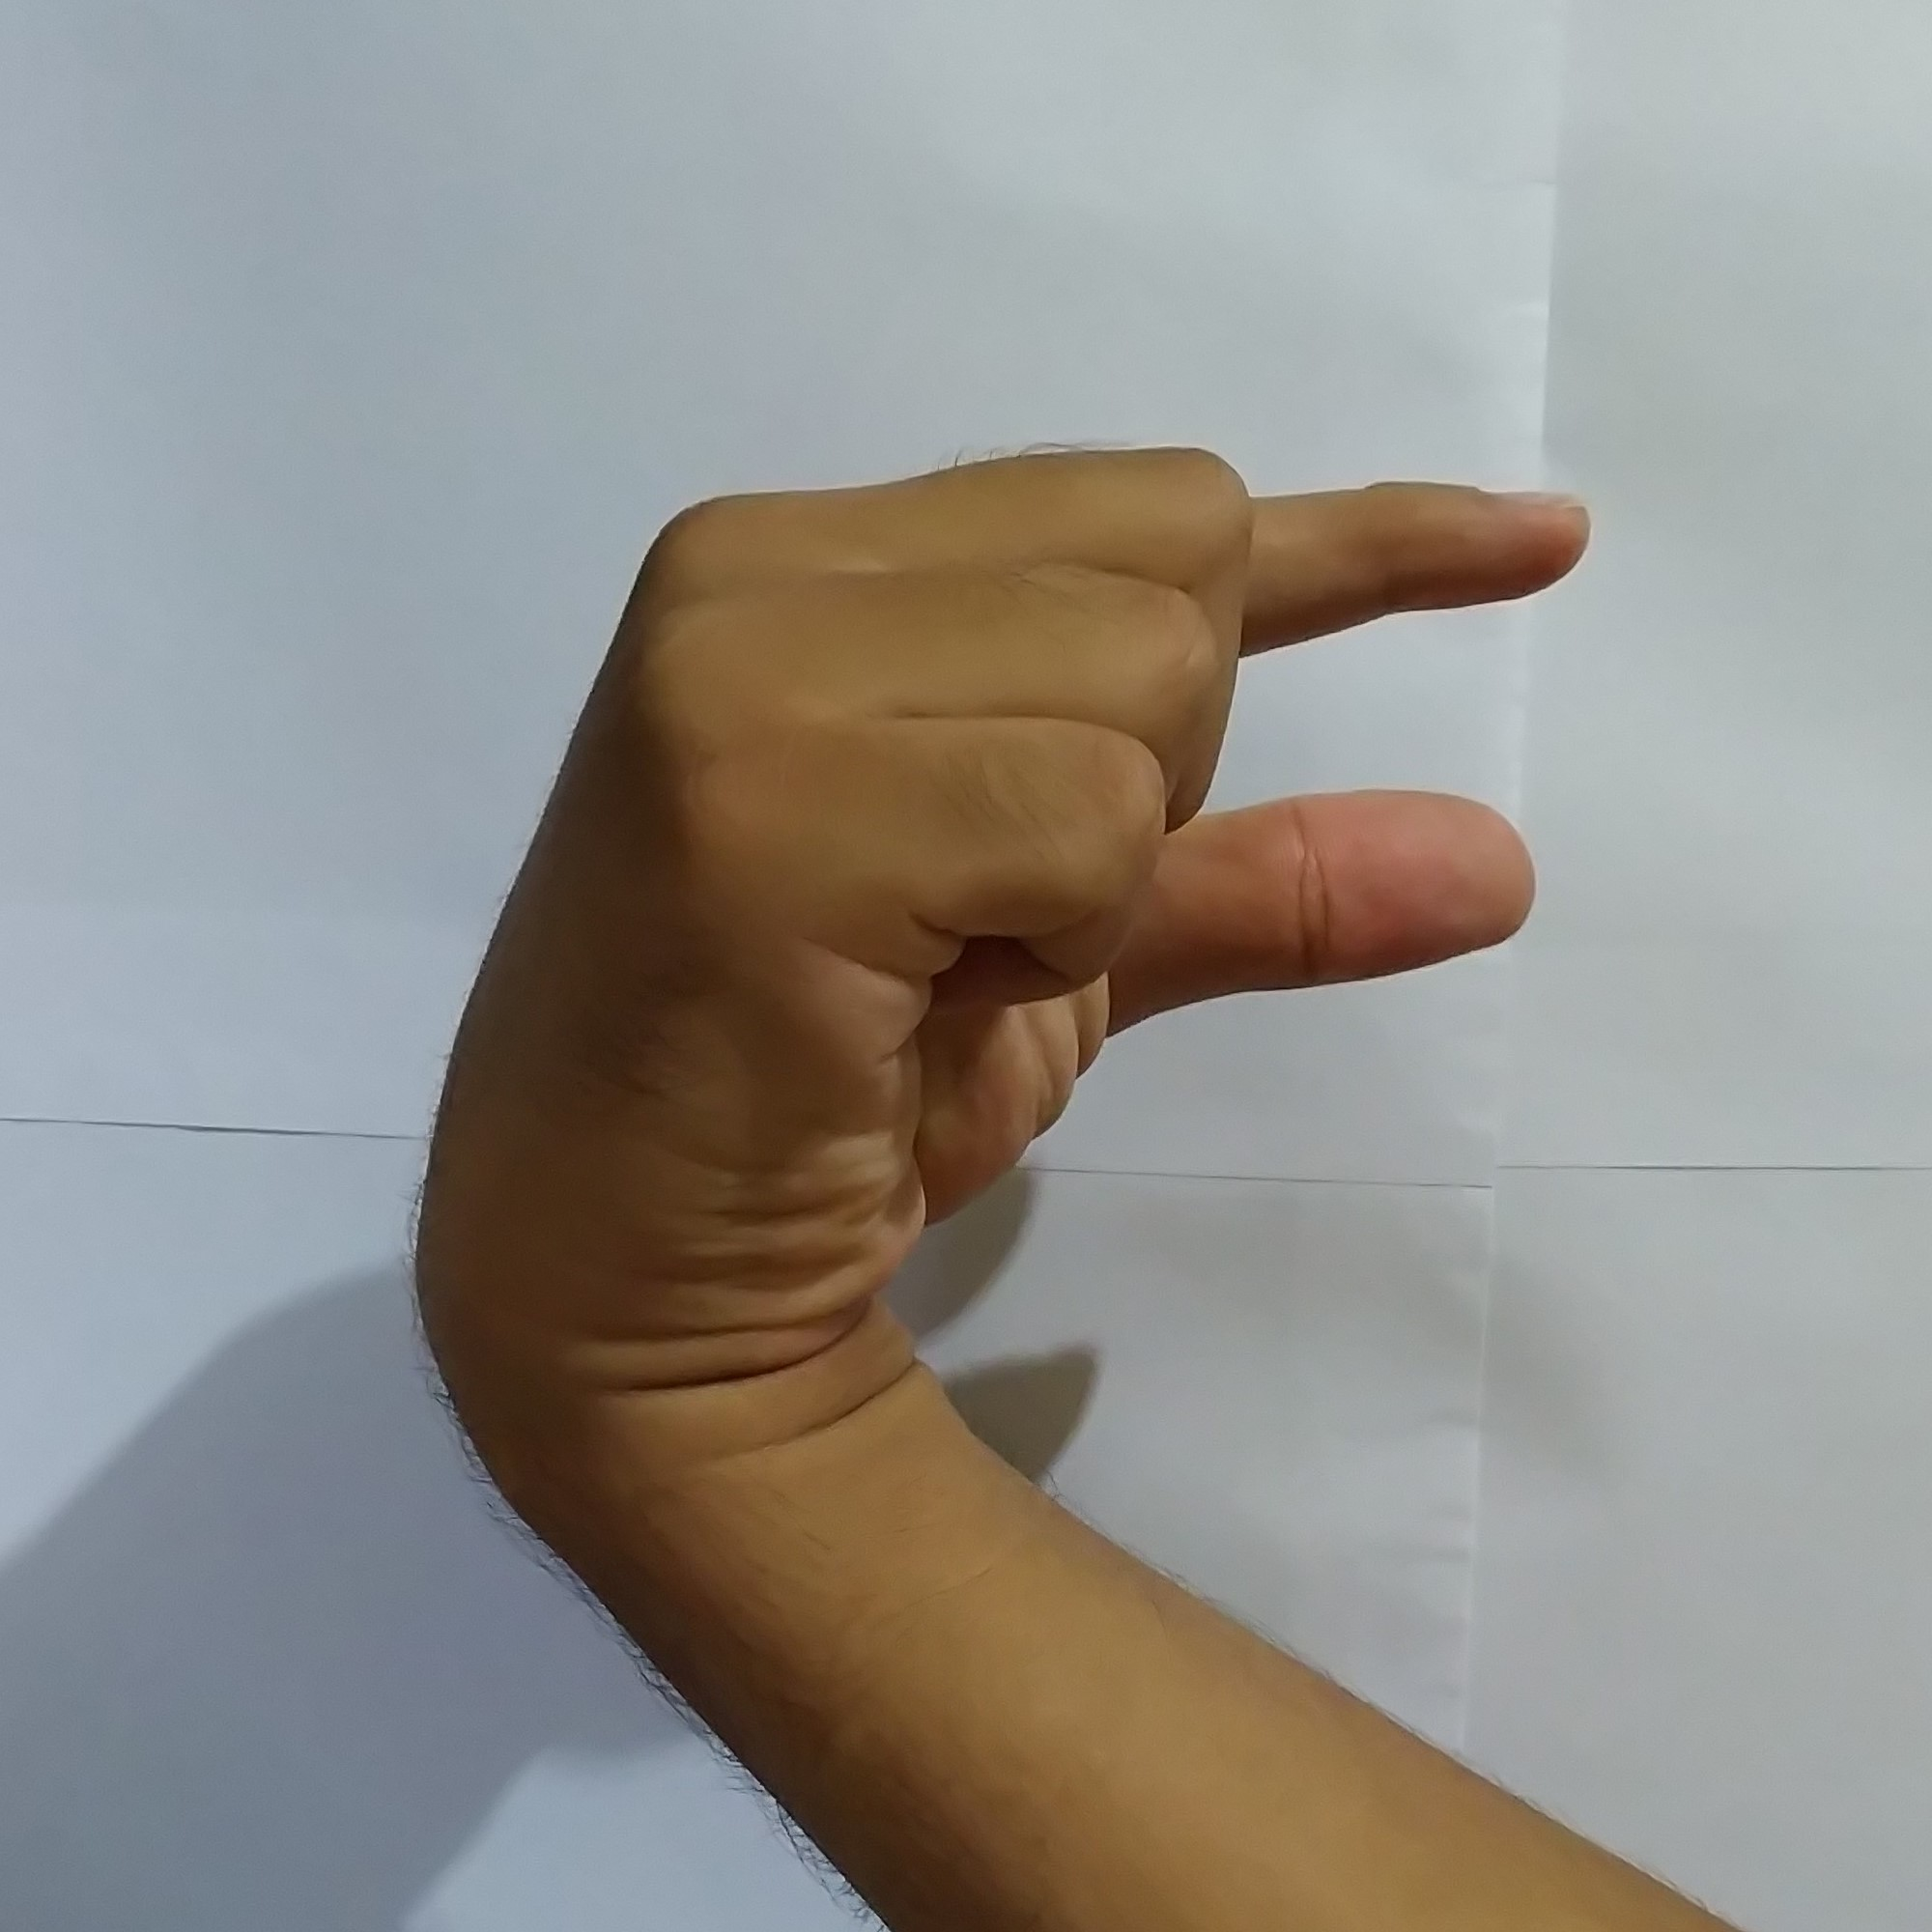G: (410, 425, 1614, 1270)
